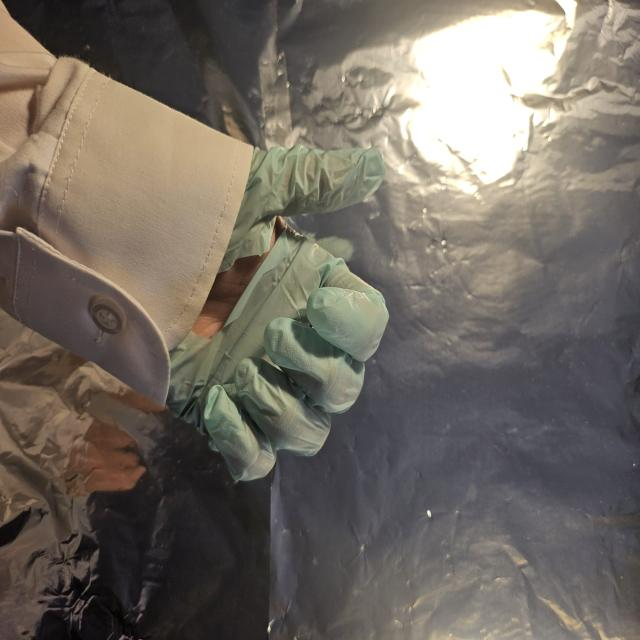gloves_damaged: (157, 137, 392, 486)
